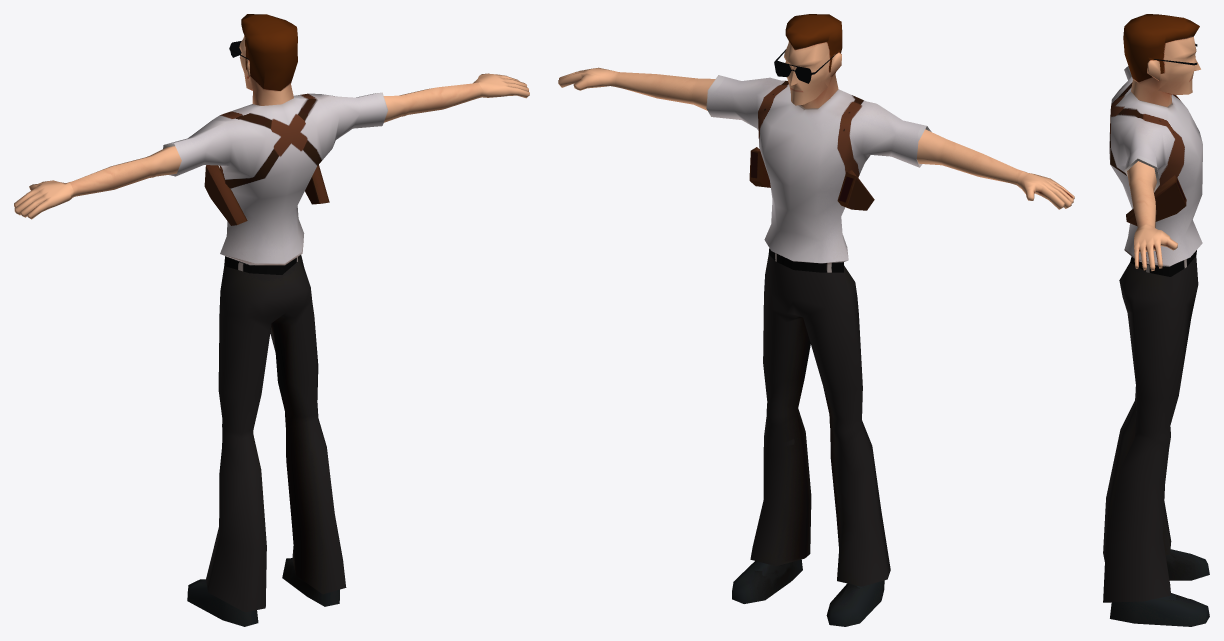
The model's file is Hammer@HammerFlyKick.FBX.
The picture shows the model from 3 angles, left to right: view 1: azimuth 30°, elevation 25°; view 2: azimuth 150°, elevation 25°; view 3: azimuth 270°, elevation 25°; orthographic projection.
Parts seen in each view (by area): view 1: Hammer; view 2: Hammer; view 3: Hammer.
Part boxes in pixels (bbox=[...]): Hammer: bbox=[14, 14, 529, 626]; Hammer: bbox=[558, 14, 1074, 626]; Hammer: bbox=[1103, 14, 1209, 626].
Size of the model in its own units: 1.72 by 1.85 by 0.3116.
